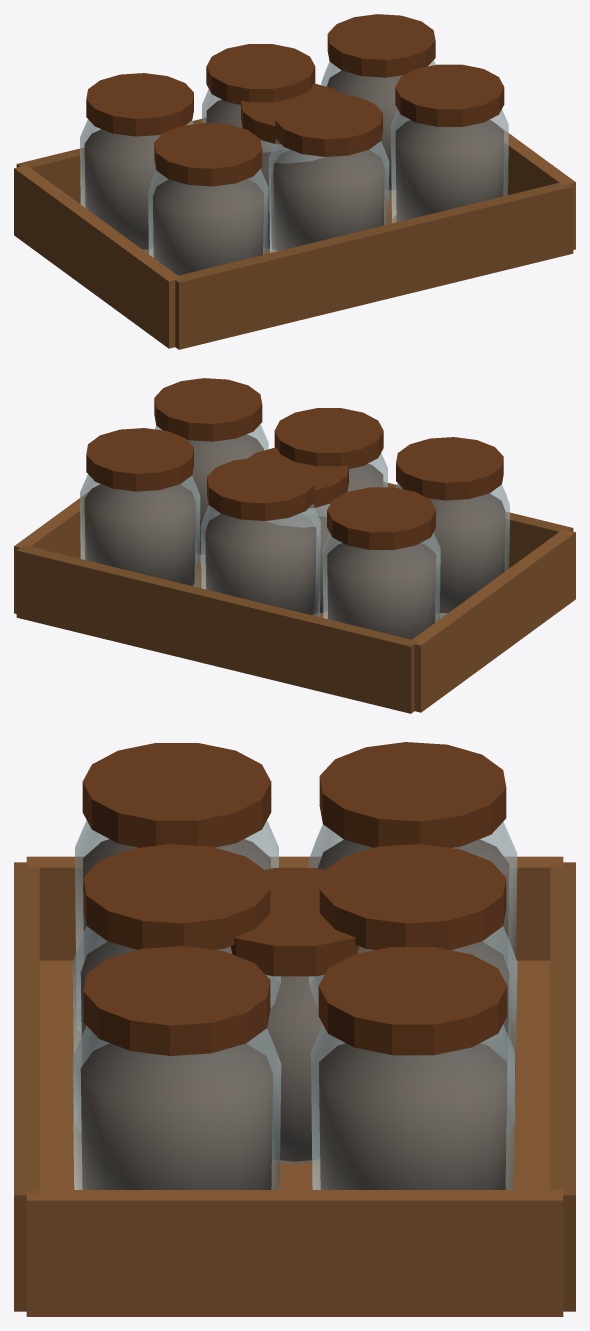
Rendered from Proc_Molasses.fbx.
3 views of the same model, one above another, from view 1: azimuth 30°, elevation 25°; view 2: azimuth 150°, elevation 25°; view 3: azimuth 270°, elevation 25° (orthographic). The views are drawn at different scales.
Visible parts, largest first — view 1: Proc_Molasses__Stack, Proc_Molasses; view 2: Proc_Molasses__Stack, Proc_Molasses; view 3: Proc_Molasses__Stack, Proc_Molasses.
Part boxes in pixels (x1,y1,x2,y2): Proc_Molasses__Stack: [14, 14, 575, 349]; Proc_Molasses: [241, 83, 341, 251]; Proc_Molasses__Stack: [14, 378, 575, 713]; Proc_Molasses: [248, 447, 348, 615]; Proc_Molasses__Stack: [14, 742, 575, 1316]; Proc_Molasses: [216, 868, 375, 1165].
Size of the model in its own units: 0.2538 by 0.0899 by 0.1753.
